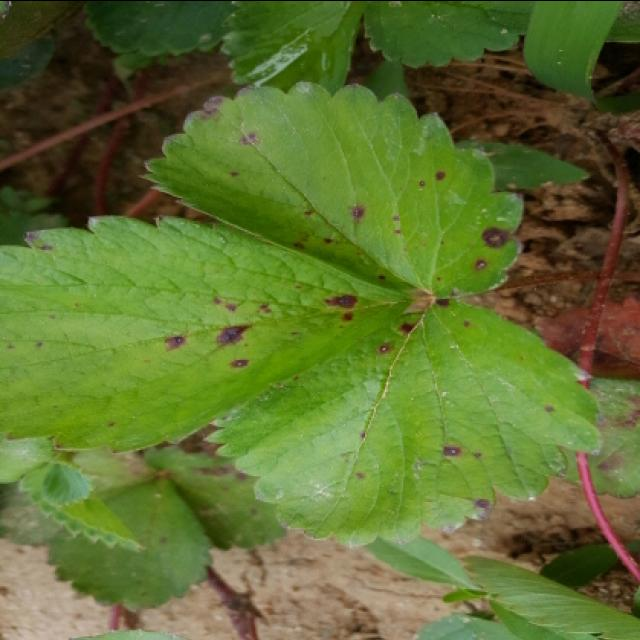Leaf Spot: (201, 298, 605, 549), (0, 213, 417, 454), (136, 79, 525, 301), (45, 475, 215, 613), (141, 443, 287, 549)
